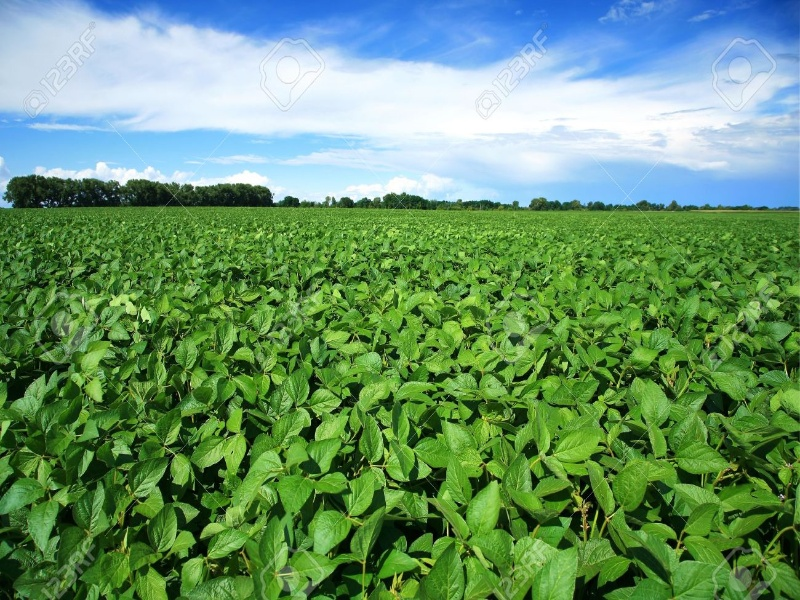soyabean: (2, 284, 796, 592)
